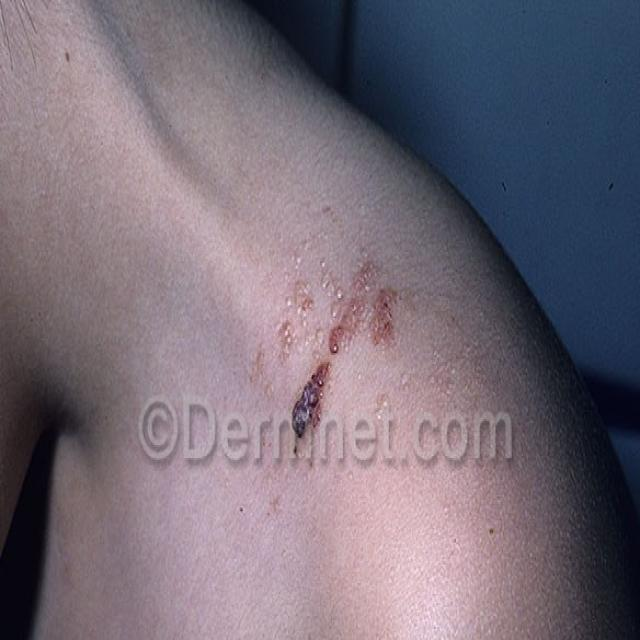Vascular Tumors: (253, 209, 419, 463)
